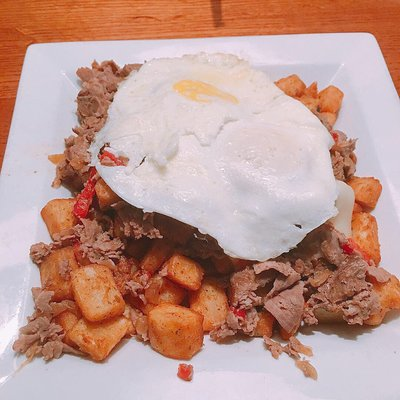soup: (15, 21, 396, 385)
